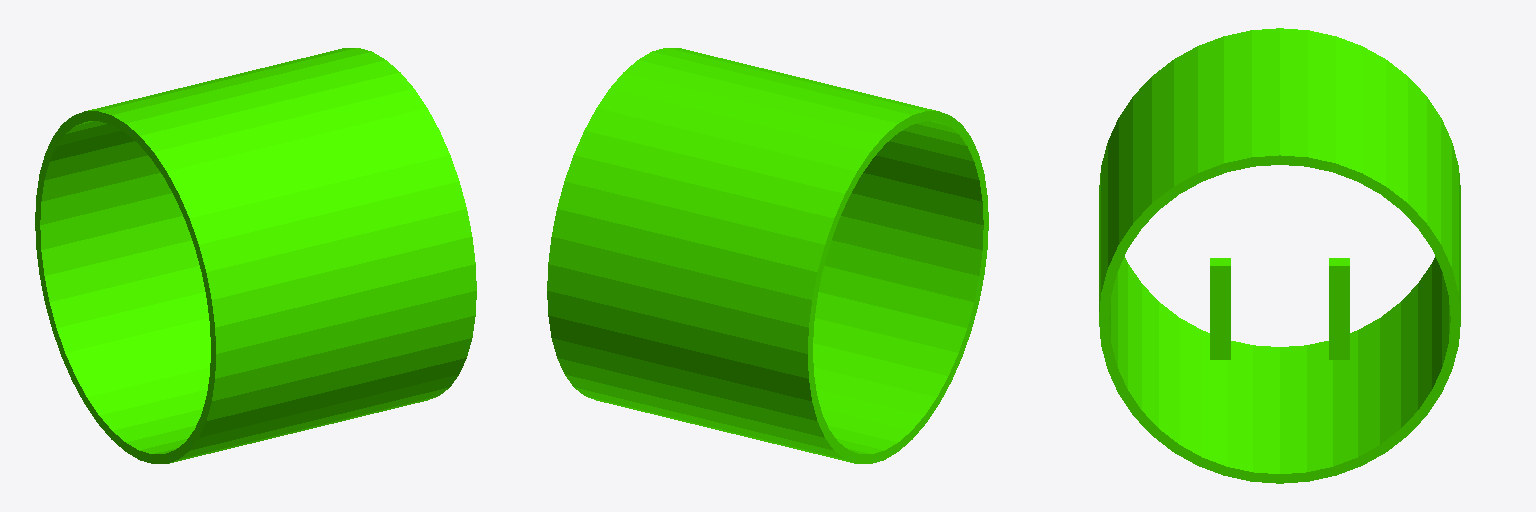
File: Lights.obj
3 renders of one model, left to right at view 1: azimuth 30°, elevation 25°; view 2: azimuth 150°, elevation 25°; view 3: azimuth 270°, elevation 25°, orthographic.
Parts seen in each view (by area): view 1: obj_0.001; view 2: obj_0.001; view 3: obj_0.001.
Boxes of the visible parts, x1=… form: obj_0.001: x1=35, y1=48, x2=476, y2=463; obj_0.001: x1=547, y1=48, x2=988, y2=463; obj_0.001: x1=1099, y1=28, x2=1460, y2=483.
Size of the model in its own units: 9.6 by 11.56 by 11.56.